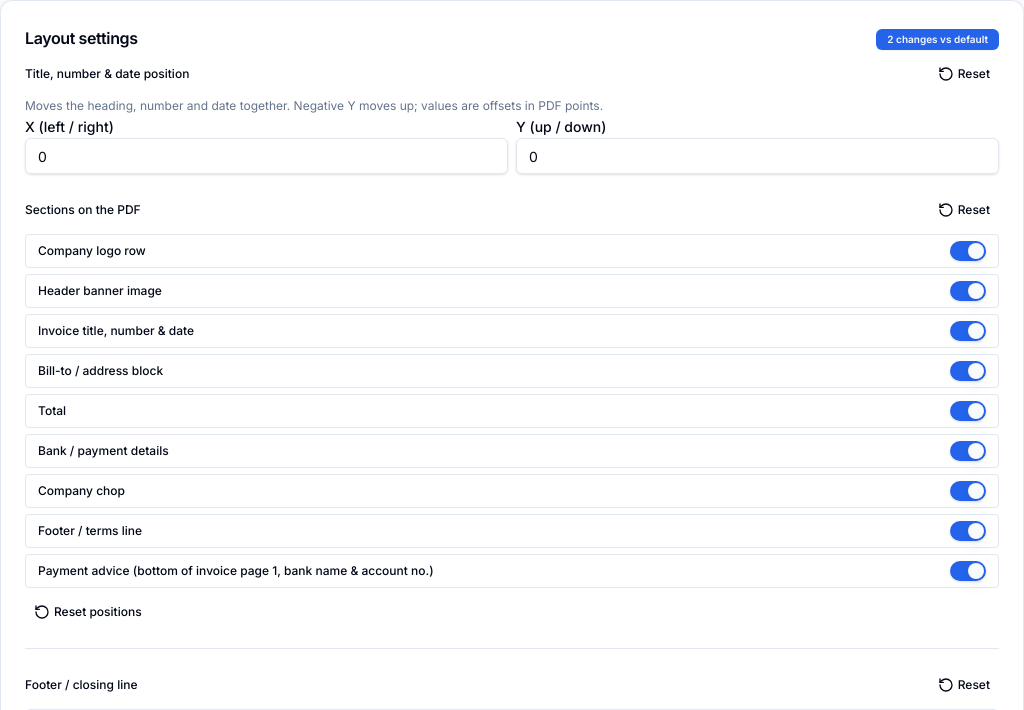
Scenario: allows typing an upward title offset beyond the old server limit and resets it
The width and height of the screenshot is (1024, 710).
Replace the text in the number field labelled "Y (up / down)" with "-200" at [758, 156], box [516,138,999,174]
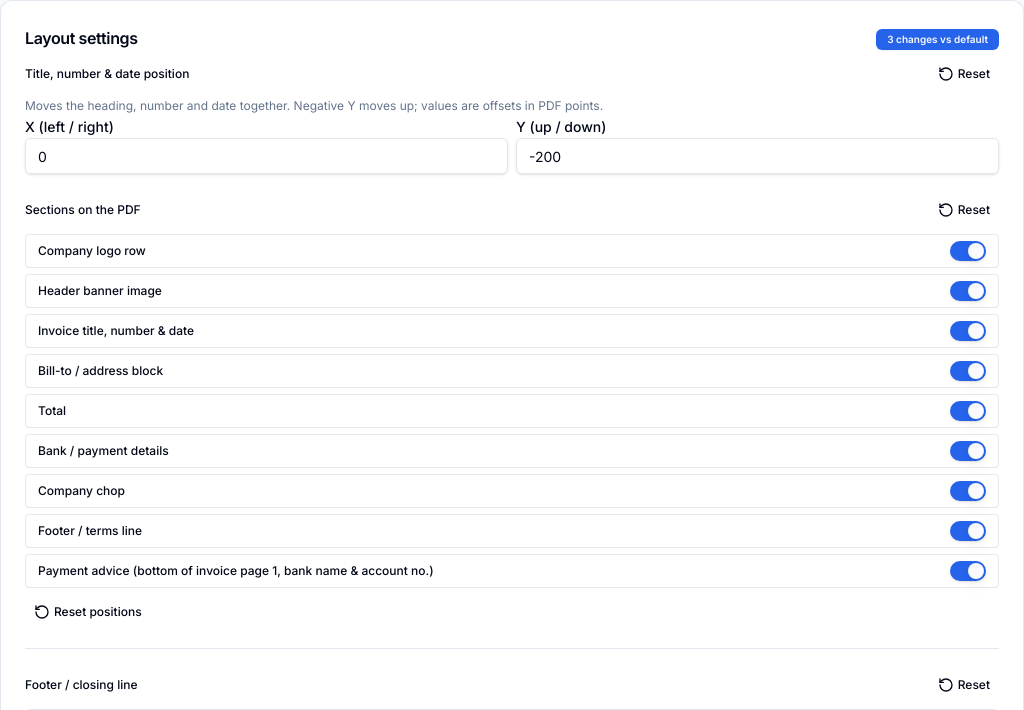
Check: the number field labelled "Y (up / down)" holds "-200", box [516,138,999,174]
Click the button "Reset positions" at [88, 612], box [25,596,151,628]
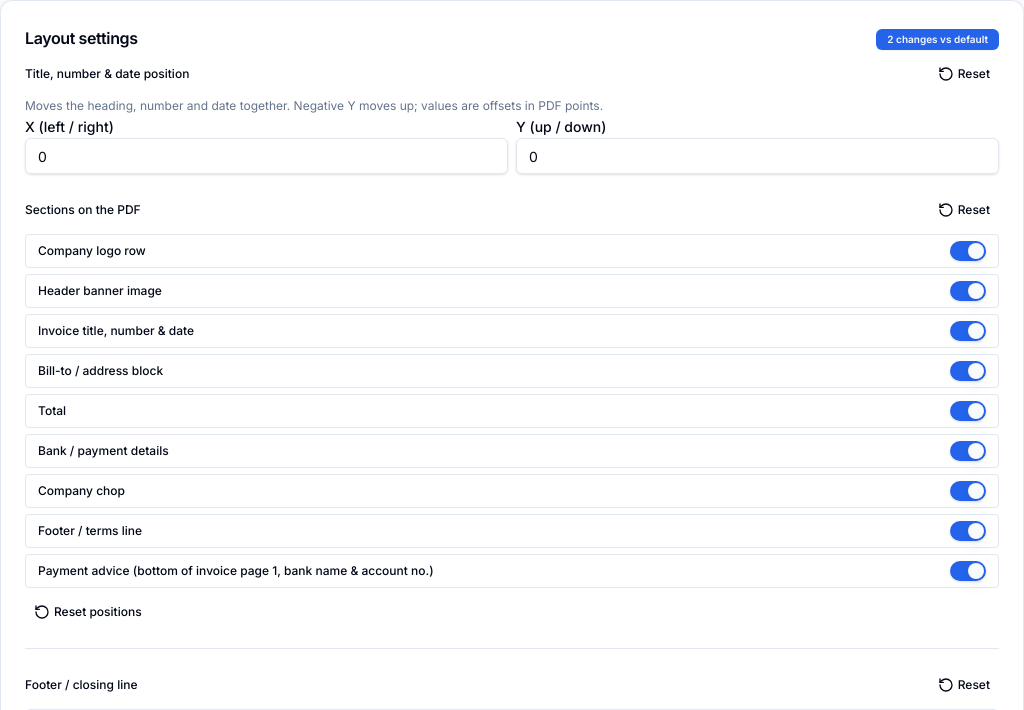
Check: the number field labelled "Y (up / down)" holds "0", box [516,138,999,174]
